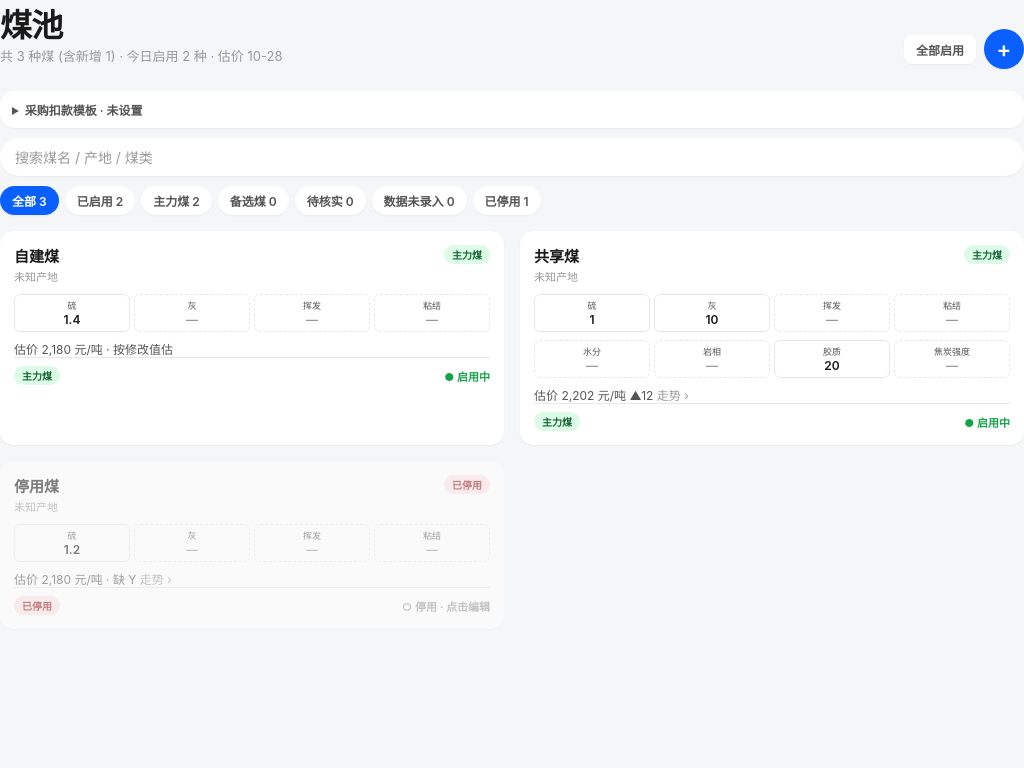
煤池估价走势 › 点共享煤的估价行打开走势弹层, 不打开编辑器; Esc 关闭; 自建煤不可点
The width and height of the screenshot is (1024, 768).
Check: the text "自建煤" shows "估价 2,180 元/吨", box [0, 231, 504, 445]
Click the button with aria-label "查看共享煤估价走势" at [578, 396], box [534, 386, 1010, 403]
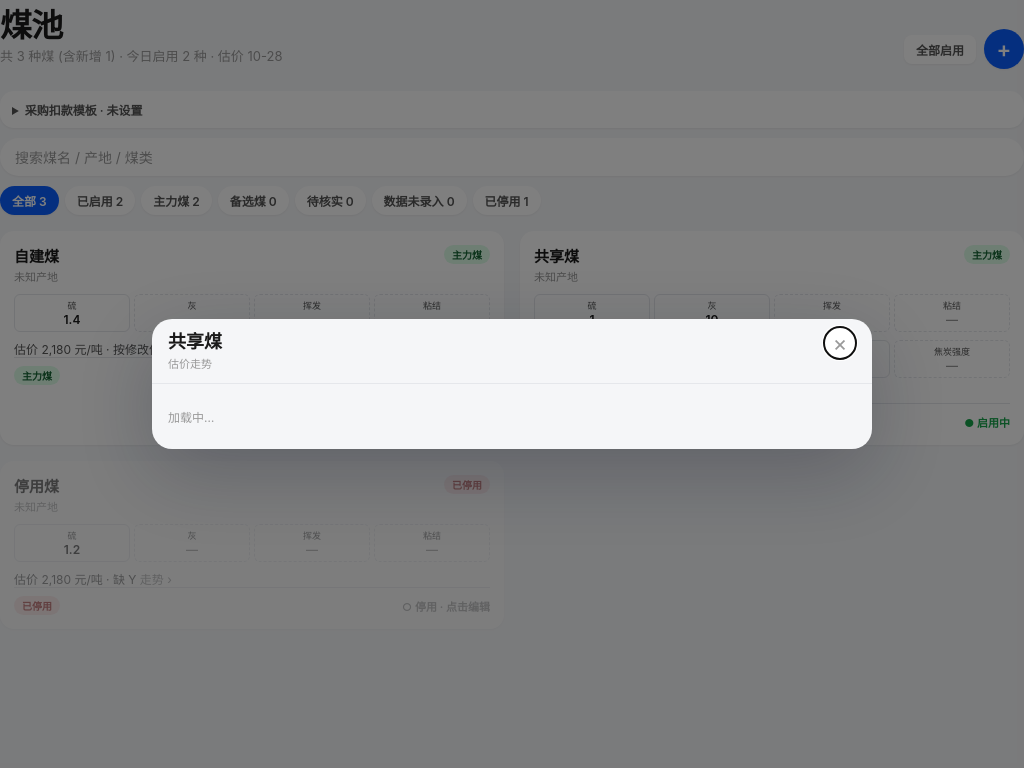
Check: the dialog "共享煤" is shown, box [152, 319, 872, 449]
Press Escape
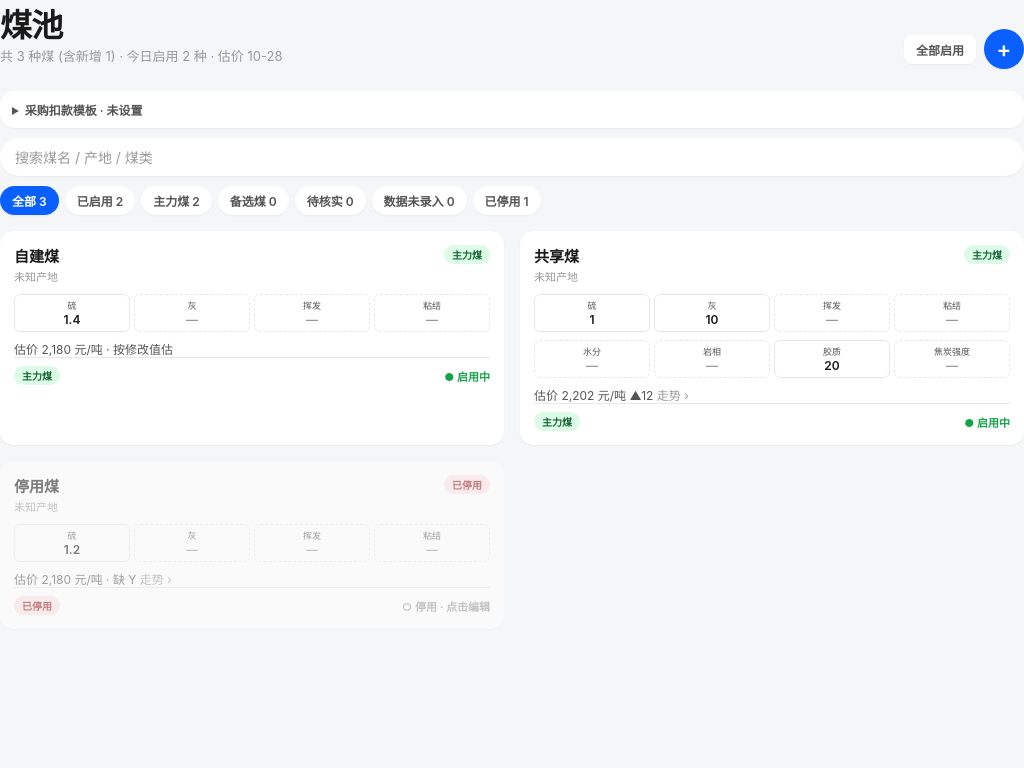
Check: the dialog is gone
